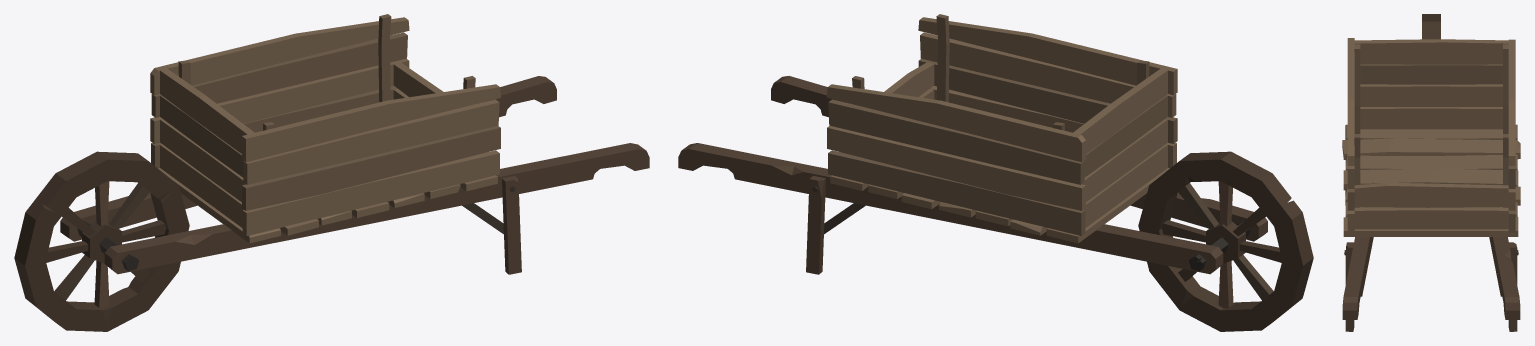
The model's file is SM_Props_Farm_Wheelbarrow_Wood.fbx.
3 views of the same model, side by side, from view 1: azimuth 30°, elevation 25°; view 2: azimuth 150°, elevation 25°; view 3: azimuth 270°, elevation 25° (orthographic). The views are drawn at different scales.
Parts seen in each view (by area): view 1: SM_Props_Farm_Wheelbarrow_Wood, SM_Props_Farm_Wheelbarrow_Wood_Wheel; view 2: SM_Props_Farm_Wheelbarrow_Wood, SM_Props_Farm_Wheelbarrow_Wood_Wheel; view 3: SM_Props_Farm_Wheelbarrow_Wood, SM_Props_Farm_Wheelbarrow_Wood_Wheel.
Part boxes in pixels (left/top/right/bottom): SM_Props_Farm_Wheelbarrow_Wood: left=60, top=14, right=649, bottom=274; SM_Props_Farm_Wheelbarrow_Wood_Wheel: left=14, top=151, right=189, bottom=331; SM_Props_Farm_Wheelbarrow_Wood: left=678, top=14, right=1267, bottom=274; SM_Props_Farm_Wheelbarrow_Wood_Wheel: left=1138, top=151, right=1313, bottom=331; SM_Props_Farm_Wheelbarrow_Wood: left=1342, top=38, right=1520, bottom=331; SM_Props_Farm_Wheelbarrow_Wood_Wheel: left=1422, top=14, right=1440, bottom=39.
Size of the model in its own units: 333 by 113 by 101.
